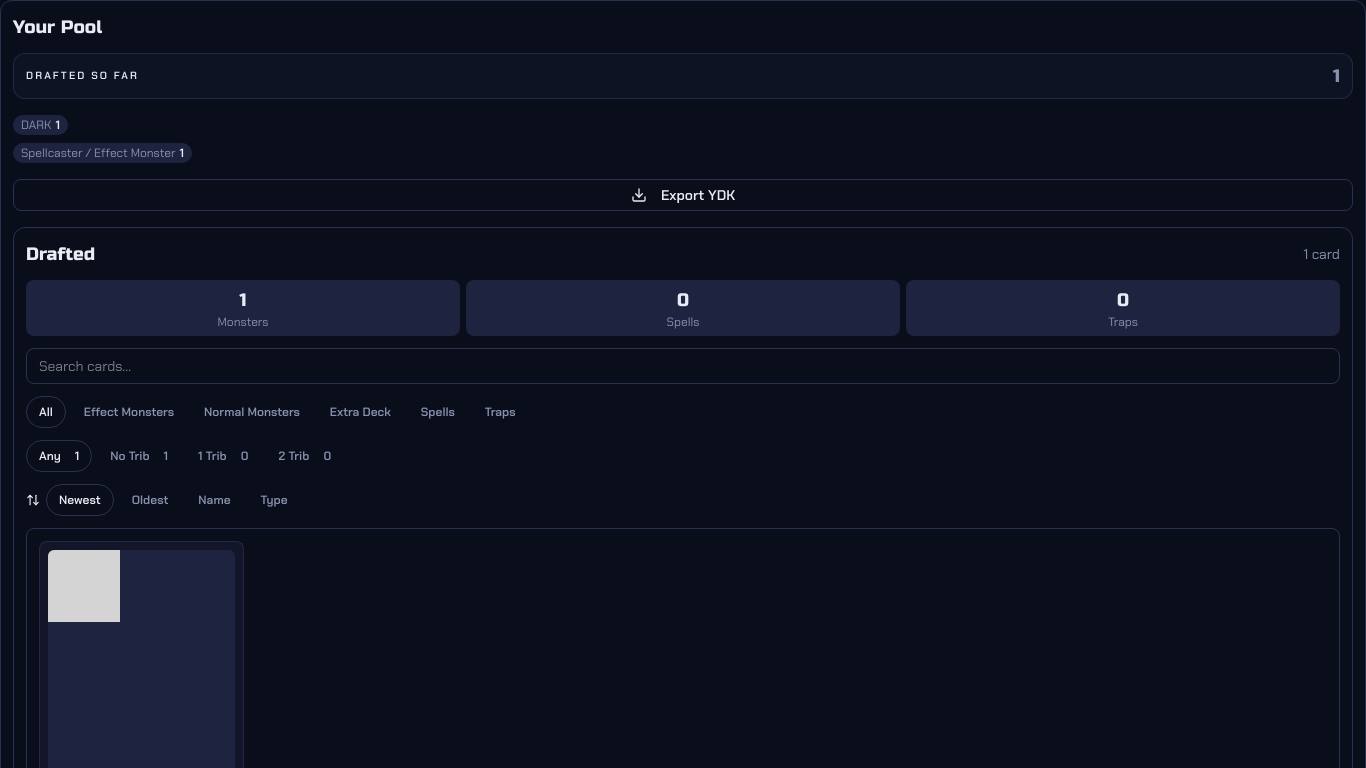
PoolPanel › treats spellcaster monsters as monsters instead of spells
Check: the text "Monsters" is shown, box [218,314,268,330]
Check: the 4th text "1" is shown, box [239,286,247,314]
What coordinates should you click on to do the following:
click the button "Effect Monsters"
I would click on:
 (129, 412)
Its box is [72,396,186,428].
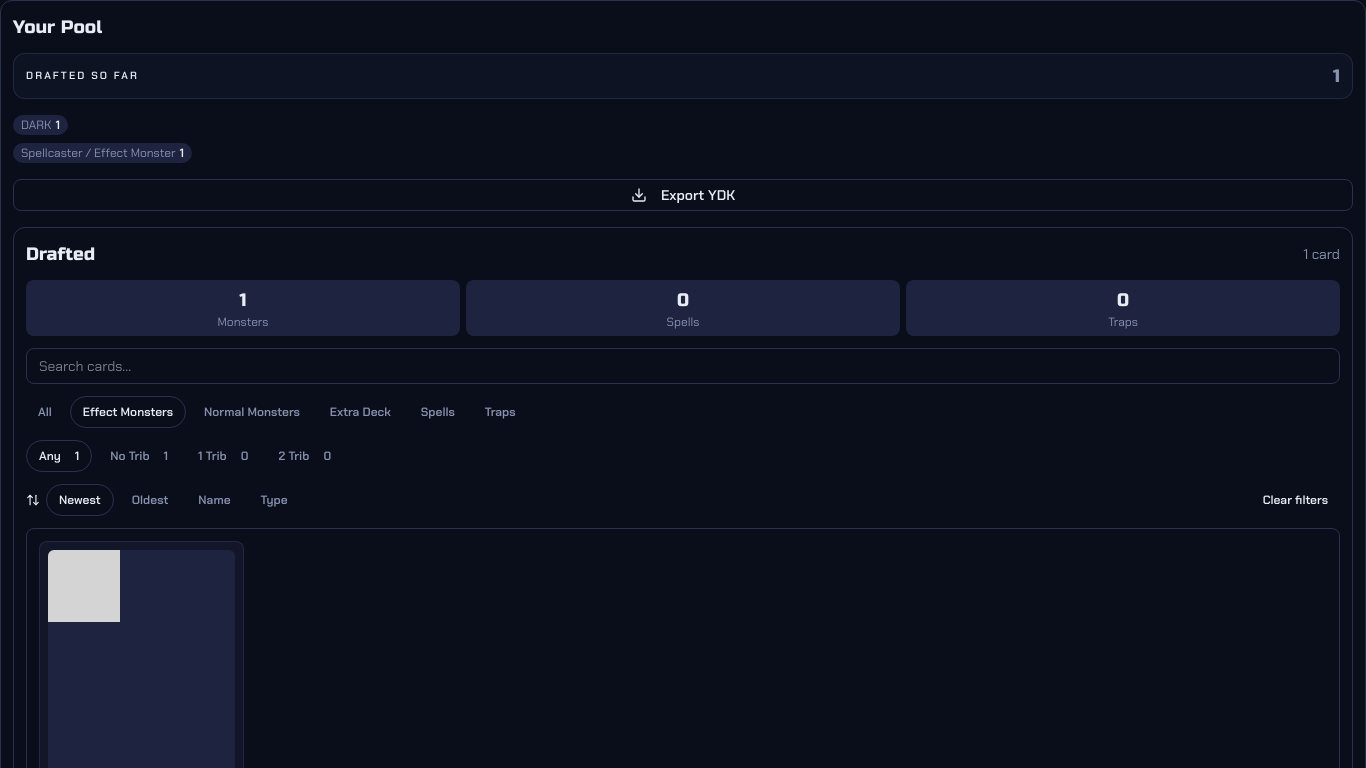
What coordinates should you click on to do the following:
click the button "Spells"
I would click on:
 (438, 412)
Its box is [409,396,467,428].
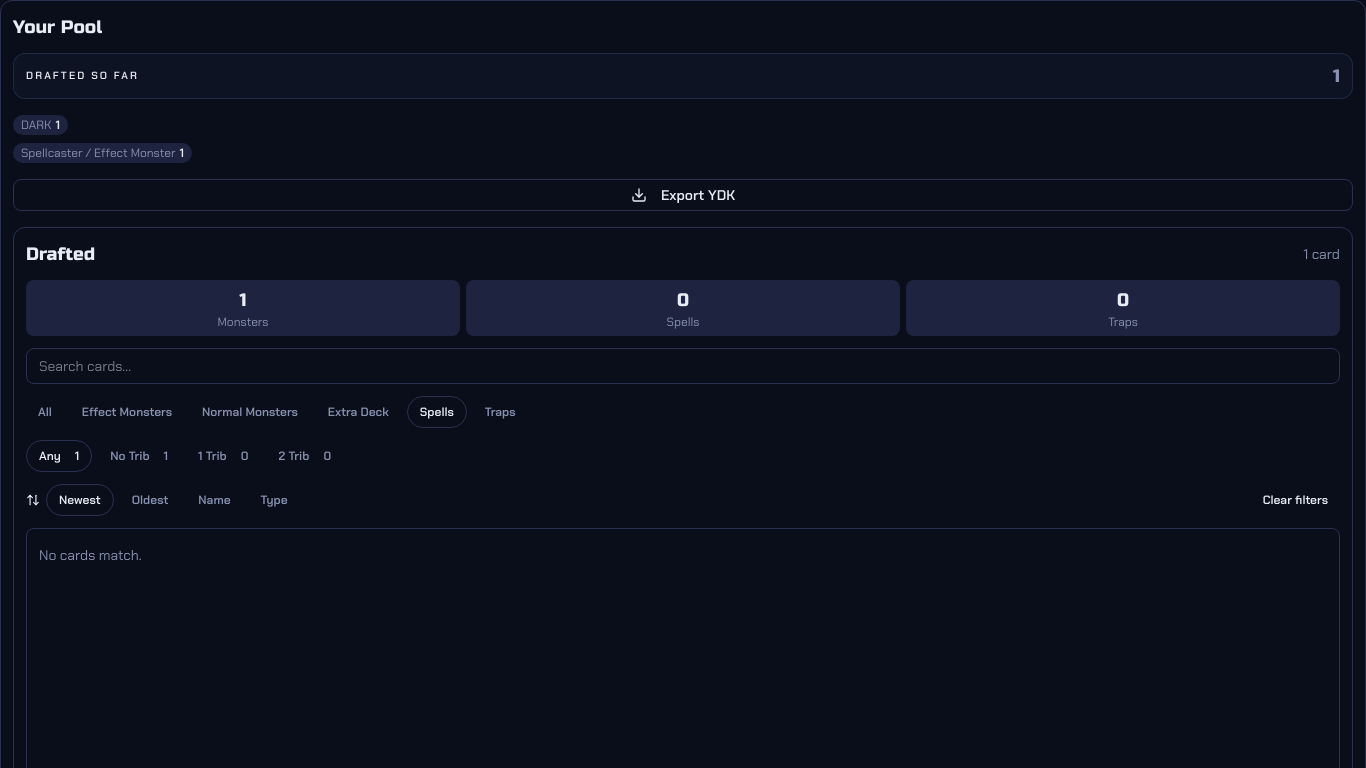
Check: the text "No cards match." is shown, box [39,546,142,564]
